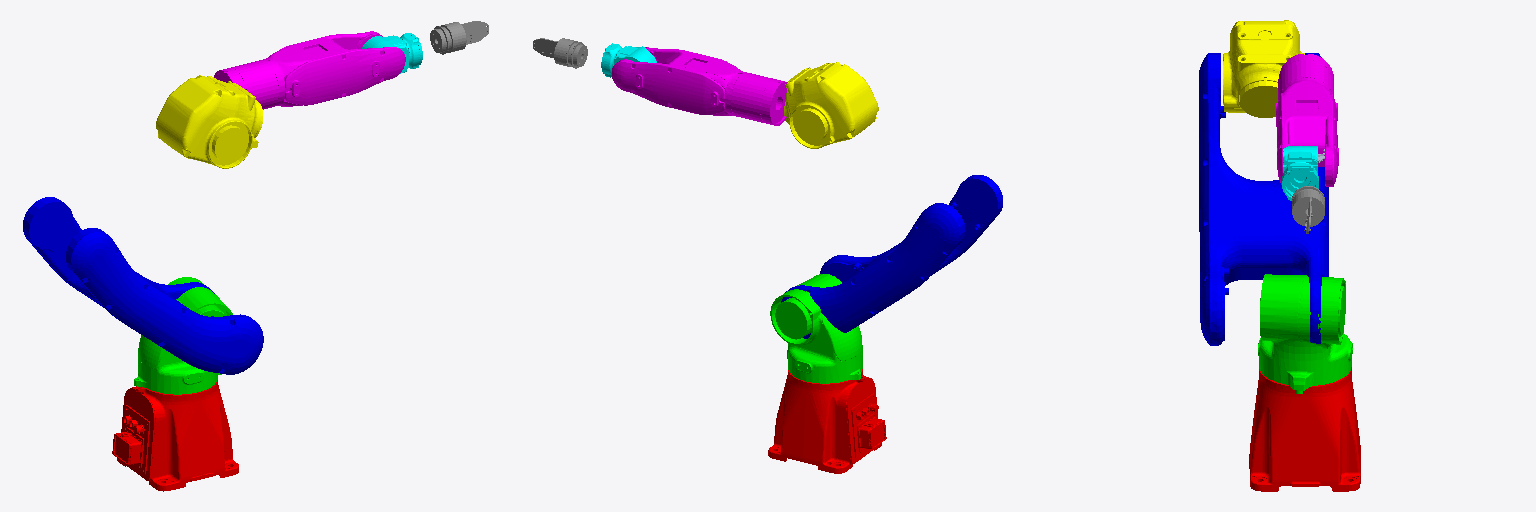
URDF robot description (gp7_robot):
<?xml version="1.0" encoding="utf-8"?>
<!-- This URDF was automatically created by SolidWorks to URDF Exporter! Originally created by [author] ([email redacted]) 
     Commit Version: 1.6.0-1-g15f4949  Build Version: 1.6.7594.29634
     For more information, please see http://wiki.ros.org/sw_urdf_exporter -->
<robot
  name="gp7_robot">

  <gazebo>
    <plugin
      filename="libgz_ros2_control-system.so"
      name="gz_ros2_control::GazeboSimROS2ControlPlugin">
      <parameters>[local-path]/development/ros/robotic_manipulator_simulation/src/gp7_robot/config/gp7_controllers.yaml</parameters>
      <controller_manager_name>controller_manager</controller_manager_name>
      <hold_joints>true</hold_joints>
      <position_proportional_gain>0.1</position_proportional_gain>
    </plugin>
  </gazebo>

  <ros2_control name="GazeboSimSystem" type="system">
    <hardware>
      <plugin>gz_ros2_control/GazeboSimSystem</plugin>
    </hardware>
    <joint name="joint1">
      <command_interface name="position"/>
      <state_interface name="position"/>
      <state_interface name="velocity"/>
      <state_interface name="effort"/>
    </joint>
    <joint name="joint2">
      <command_interface name="position"/>
      <state_interface name="position"/>
      <state_interface name="velocity"/>
      <state_interface name="effort"/>
    </joint>
    <joint name="joint3">
      <command_interface name="position"/>
      <state_interface name="position"/>
      <state_interface name="velocity"/>
      <state_interface name="effort"/>
    </joint>
    <joint name="joint4">
      <command_interface name="position"/>
      <state_interface name="position"/>
      <state_interface name="velocity"/>
      <state_interface name="effort"/>
    </joint>
    <joint name="joint5">
      <command_interface name="position"/>
      <state_interface name="position"/>
      <state_interface name="velocity"/>
      <state_interface name="effort"/>
    </joint>
    <joint name="joint6">
      <command_interface name="position"/>
      <state_interface name="position"/>
      <state_interface name="velocity"/>
      <state_interface name="effort"/>
    </joint>
  </ros2_control>
  
  <link name="world"/>
  <joint name="world_to_base" type="fixed">
    <parent link="world"/>
    <child link="base_link"/>
    <origin xyz="0 0 0" rpy="0 0 0"/>
  </joint>

  <link
    name="base_link">
    <inertial>
      <origin
        xyz="-0.0061643 6.0941E-07 0.083158"
        rpy="0 0 0" />
      <mass
        value="5.2154" />
      <inertia
        ixx="0.026026"
        ixy="-2.5924E-05"
        ixz="0.00013984"
        iyy="0.025295"
        iyz="-4.7677E-05"
        izz="0.021721" />
    </inertial>
    <visual>
      <origin
        xyz="0 0 0"
        rpy="0 0 0" />
      <geometry>
        <mesh
          filename="package://gp7_robot/meshes/base_link.STL" />
      </geometry>
      <material
        name="">
        <color
          rgba="1 0 0 1" />
      </material>
    </visual>
    <collision>
      <origin
        xyz="0 0 0"
        rpy="0 0 0" />
      <geometry>
        <mesh
          filename="package://gp7_robot/meshes/base_link.STL" />
      </geometry>
    </collision>
  </link>
  <link
    name="link1">
    <inertial>
      <origin
        xyz="0.015672 2.2615E-06 0.095449"
        rpy="0 0 0" />
      <mass
        value="2.9447" />
      <inertia
        ixx="0.011181"
        ixy="-4.9786E-06"
        ixz="-0.0021792"
        iyy="0.011947"
        iyz="-1.7792E-05"
        izz="0.0088687" />
    </inertial>
    <visual>
      <origin
        xyz="0 0 0"
        rpy="0 0 0" />
      <geometry>
        <mesh
          filename="package://gp7_robot/meshes/link1.STL" />
      </geometry>
      <material
        name="">
        <color
          rgba="0 1 0 1" />
      </material>
    </visual>
    <collision>
      <origin
        xyz="0 0 0"
        rpy="0 0 0" />
      <geometry>
        <mesh
          filename="package://gp7_robot/meshes/link1.STL" />
      </geometry>
    </collision>
  </link>
  <joint
    name="joint1"
    type="revolute">
    <origin
      xyz="-0.00059534 0 0.1829"
      rpy="0 0 0" />
    <parent
      link="base_link" />
    <child
      link="link1" />
    <axis
      xyz="0 0 1" />
    <!-- S axis: ±170°, 375 °/s -->
    <limit
      lower="-2.96706"
      upper="2.96706"
      effort="0"
      velocity="6.54499" />
  </joint>
  <link
    name="link2">
    <inertial>
      <origin
        xyz="0.027625 0.19499 0.00020191"
        rpy="0 0 0" />
      <mass
        value="6.2405" />
      <inertia
        ixx="0.1263"
        ixy="0.00019256"
        ixz="4.291E-05"
        iyy="0.027757"
        iyz="-0.00048284"
        izz="0.11052" />
    </inertial>
    <visual>
      <origin
        xyz="0 0 0"
        rpy="0 0 0" />
      <geometry>
        <mesh
          filename="package://gp7_robot/meshes/link2.STL" />
      </geometry>
      <material
        name="">
        <color
          rgba="0 0 1 1" />
      </material>
    </visual>
    <collision>
      <origin
        xyz="0 0 0"
        rpy="0 0 0" />
      <geometry>
        <mesh
          filename="package://gp7_robot/meshes/link2.STL" />
      </geometry>
    </collision>
  </link>
  <joint
    name="joint2"
    type="revolute">
    <origin
      xyz="0.039998 0.00034906 0.1355"
      rpy="1.5708 0 -3.1329" />
    <parent
      link="link1" />
    <child
      link="link2" />
    <axis
      xyz="0 0 1" />
    <!-- L axis: +145° / -65°, 315 °/s -->
    <limit
      lower="-1.13446"
      upper="2.53073"
      effort="0"
      velocity="5.49779" />
  </joint>
  <link
    name="link3">
    <inertial>
      <origin
        xyz="-0.020055 0.015909 -0.00085391"
        rpy="0 0 0" />
      <mass
        value="2.8492" />
      <inertia
        ixx="0.0069342"
        ixy="-0.00090367"
        ixz="3.8644E-05"
        iyy="0.0082319"
        iyz="-2.8966E-05"
        izz="0.0077915" />
    </inertial>
    <visual>
      <origin
        xyz="0 0 0"
        rpy="0 0 0" />
      <geometry>
        <mesh
          filename="package://gp7_robot/meshes/link3.STL" />
      </geometry>
      <material
        name="">
        <color
          rgba="1 1 0 1" />
      </material>
    </visual>
    <collision>
      <origin
        xyz="0 0 0"
        rpy="0 0 0" />
      <geometry>
        <mesh
          filename="package://gp7_robot/meshes/link3.STL" />
      </geometry>
    </collision>
  </link>
  <joint
    name="joint3"
    type="revolute">
    <origin
      xyz="0 0.445 0"
      rpy="0 0 -1.5708" />
    <parent
      link="link2" />
    <child
      link="link3" />
    <axis
      xyz="0 0 1" />
    <!-- U axis: +190° / -70°, 410 °/s -->
    <limit
      lower="-1.22173"
      upper="3.31613"
      effort="0"
      velocity="7.15585" />
  </joint>
  <link
    name="link4">
    <inertial>
      <origin
        xyz="-0.00015773 0.00015216 0.16677"
        rpy="0 0 0" />
      <mass
        value="2.7554" />
      <inertia
        ixx="0.010785"
        ixy="2.488E-06"
        ixz="-0.00031861"
        iyy="0.010085"
        iyz="-4.0001E-06"
        izz="0.0030857" />
    </inertial>
    <visual>
      <origin
        xyz="0 0 0"
        rpy="0 0 0" />
      <geometry>
        <mesh
          filename="package://gp7_robot/meshes/link4.STL" />
      </geometry>
      <material
        name="">
        <color
          rgba="1 0 1 1" />
      </material>
    </visual>
    <collision>
      <origin
        xyz="0 0 0"
        rpy="0 0 0" />
      <geometry>
        <mesh
          filename="package://gp7_robot/meshes/link4.STL" />
      </geometry>
    </collision>
  </link>
  <joint
    name="joint4"
    type="revolute">
    <origin
      xyz="-0.04 -0.079 0"
      rpy="1.5708 1.5708 0" />
    <parent
      link="link3" />
    <child
      link="link4" />
    <axis
      xyz="0 0 1" />
    <!-- R axis: ±190°, 550 °/s -->
    <limit
      lower="-3.31613"
      upper="3.31613"
      effort="0"
      velocity="9.59931" />
  </joint>
  <link
    name="link5">
    <inertial>
      <origin
        xyz="0.00025391 0.01321 -0.0017485"
        rpy="0 0 0" />
      <mass
        value="0.24589" />
      <inertia
        ixx="0.00013953"
        ixy="-2.1177E-06"
        ixz="1.9619E-07"
        iyy="0.00015684"
        iyz="-1.2921E-06"
        izz="0.00018562" />
    </inertial>
    <visual>
      <origin
        xyz="0 0 0"
        rpy="0 0 0" />
      <geometry>
        <mesh
          filename="package://gp7_robot/meshes/link5.STL" />
      </geometry>
      <material
        name="">
        <color
          rgba="0 1 1 1" />
      </material>
    </visual>
    <collision>
      <origin
        xyz="0 0 0"
        rpy="0 0 0" />
      <geometry>
        <mesh
          filename="package://gp7_robot/meshes/link5.STL" />
      </geometry>
    </collision>
  </link>
  <joint
    name="joint5"
    type="revolute">
    <origin
      xyz="0 0 0.361"
      rpy="1.5708 0 -1.5708" />
    <parent
      link="link4" />
    <child
      link="link5" />
    <axis
      xyz="0 0 1" />
    <!-- B axis: ±135°, 550 °/s -->
    <limit
      lower="-2.35619"
      upper="2.35619"
      effort="0"
      velocity="9.59931" />
  </joint>
  <link
    name="EE">
    <inertial>
      <origin
        xyz="-3.8273E-05 2.3469E-05 0.033407"
        rpy="0 0 0" />
      <mass
        value="0.13667" />
      <inertia
        ixx="5.2643E-05"
        ixy="1.8623E-07"
        ixz="-2.5485E-07"
        iyy="5.3828E-05"
        iyz="3.6556E-08"
        izz="5.4993E-05" />
    </inertial>
    <visual>
      <origin
        xyz="0 0 0"
        rpy="0 0 0" />
      <geometry>
        <mesh
          filename="package://gp7_robot/meshes/EE.STL" />
      </geometry>
      <material
        name="">
        <color
          rgba="0.6 0.6 0.6 1" />
      </material>
    </visual>
    <collision>
      <origin
        xyz="0 0 0"
        rpy="0 0 0" />
      <geometry>
        <mesh
          filename="package://gp7_robot/meshes/EE.STL" />
      </geometry>
    </collision>
  </link>
  <joint
    name="joint6"
    type="continuous">
    <origin
      xyz="0 0.0675 0"
      rpy="1.5708 -1.5708 0" />
    <parent
      link="link5" />
    <child
      link="EE" />
    <axis
      xyz="0 0 1" />
  </joint>
  <link
    name="finger1_link">
    <inertial>
      <origin
        xyz="0.014816 -0.016407 -0.0019684"
        rpy="0 0 0" />
      <mass
        value="0.0047666" />
      <inertia
        ixx="3.8953E-07"
        ixy="-4.7926E-08"
        ixz="6.1793E-09"
        iyy="8.1996E-07"
        iyz="5.3332E-08"
        izz="1.1669E-06" />
    </inertial>
    <visual>
      <origin
        xyz="0 0 0"
        rpy="0 0 0" />
      <geometry>
        <mesh
          filename="package://gp7_robot/meshes/finger1_link.STL" />
      </geometry>
      <material
        name="">
        <color
          rgba="0.4 0.4 0.4 1" />
      </material>
    </visual>
    <collision>
      <origin
        xyz="0 0 0"
        rpy="0 0 0" />
      <geometry>
        <mesh
          filename="package://gp7_robot/meshes/finger1_link.STL" />
      </geometry>
    </collision>
  </link>
  <joint
    name="finger1_joint"
    type="revolute">
    <origin
      xyz="-0.012828 0.0074919 0.1"
      rpy="1.5708 -1.5621 -3.1416" />
    <parent
      link="EE" />
    <child
      link="finger1_link" />
    <axis
      xyz="0.0012983 0.14877 0.98887" />
    <limit
      lower="0"
      upper="0"
      effort="0"
      velocity="0" />
  </joint>
  <link
    name="finger2_link">
    <inertial>
      <origin
        xyz="0.0164405516950697 0.0126063952456568 -0.00633123580787176"
        rpy="0 0 0" />
      <mass
        value="0.00476659381411143" />
      <inertia
        ixx="4.22662847435983E-07"
        ixy="1.25500043079123E-07"
        ixz="-1.98688342991039E-08"
        iyy="7.87633926369506E-07"
        iyz="5.84231471953572E-08"
        izz="1.16605068363655E-06" />
    </inertial>
    <visual>
      <origin
        xyz="0 0 0"
        rpy="0 0 0" />
      <geometry>
        <mesh
          filename="package://gp7_robot/meshes/finger2_link.STL" />
      </geometry>
      <material
        name="">
        <color
          rgba="0.792156862745098 0.819607843137255 0.933333333333333 1" />
      </material>
    </visual>
    <collision>
      <origin
        xyz="0 0 0"
        rpy="0 0 0" />
      <geometry>
        <mesh
          filename="package://gp7_robot/meshes/finger2_link.STL" />
      </geometry>
    </collision>
  </link>
  <joint
    name="finger2_joint"
    type="revolute">
    <origin
      xyz="0.014465 0.0033856 0.1"
      rpy="1.5708 -1.5621 -3.1416" />
    <parent
      link="EE" />
    <child
      link="finger2_link" />
    <axis
      xyz="0.0012983 0.14877 0.98887" />
    <limit
      lower="0"
      upper="0"
      effort="0"
      velocity="0" />
  </joint>
</robot>

--- Render facts (derived) ---
3 views of the same robot in one strip: view 1: azimuth 30°, elevation 25°; view 2: azimuth 150°, elevation 25°; view 3: azimuth 270°, elevation 25° (orthographic).
Model gp7_robot with 10 links and 9 joints (7 revolute, 1 continuous, 1 fixed), rooted at world, posed all joints at 0.
Links seen in each view (by area): view 1: link2, base_link, link4, link3, link1, EE, link5; view 2: link2, base_link, link4, link3, link1, EE, link5; view 3: link2, base_link, link1, link4, link3, link5, EE.
Boxes of the visible links, left/top/right/bottom form: link2: left=23, top=197, right=263, bottom=374; base_link: left=112, top=380, right=238, bottom=491; link4: left=214, top=31, right=405, bottom=109; link3: left=156, top=75, right=262, bottom=168; link1: left=134, top=277, right=232, bottom=394; EE: left=430, top=21, right=488, bottom=54; link5: left=362, top=33, right=422, bottom=73; link2: left=781, top=175, right=1002, bottom=338; base_link: left=768, top=369, right=886, bottom=473; link4: left=612, top=47, right=787, bottom=125; link3: left=784, top=62, right=878, bottom=148; link1: left=770, top=274, right=862, bottom=383; EE: left=533, top=38, right=587, bottom=68; link5: left=601, top=43, right=656, bottom=77; link2: left=1199, top=53, right=1328, bottom=345; base_link: left=1249, top=367, right=1360, bottom=491; link1: left=1258, top=274, right=1352, bottom=393; link4: left=1276, top=54, right=1338, bottom=186; link3: left=1223, top=20, right=1304, bottom=117; link5: left=1282, top=146, right=1318, bottom=200; EE: left=1292, top=186, right=1324, bottom=233.
Bounding box of the posed robot: 1.09 × 0.2892 × 0.8869 m (x, y, z).
9 mesh visuals loaded from 9 distinct referenced files (9 binary STL).
